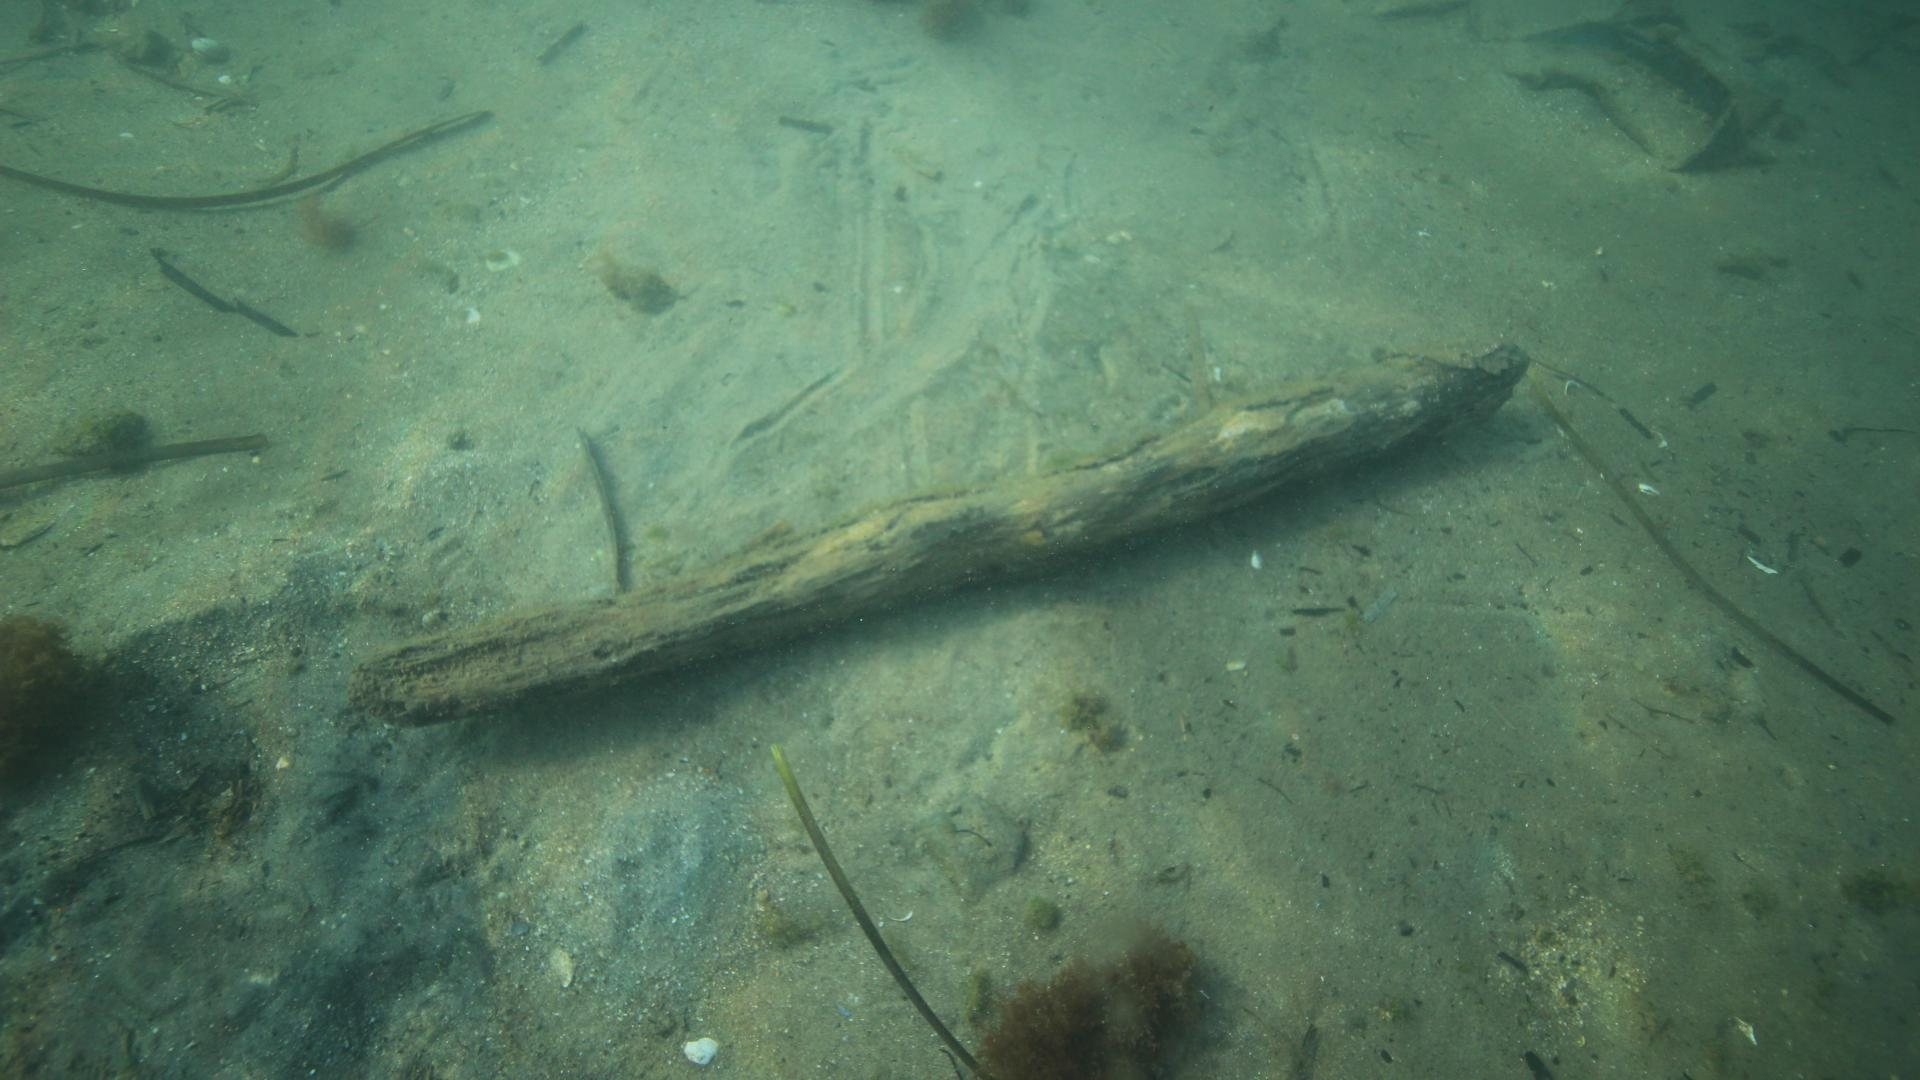wood: (351, 327, 1528, 732)
